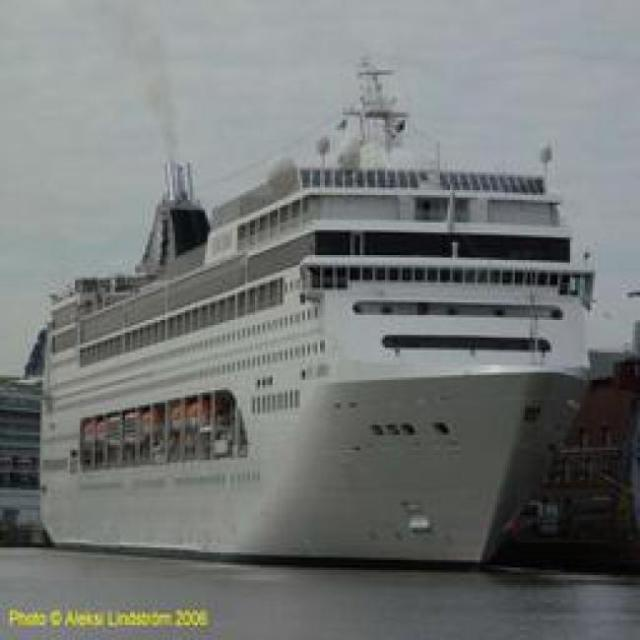boat: (0, 214, 591, 581)
